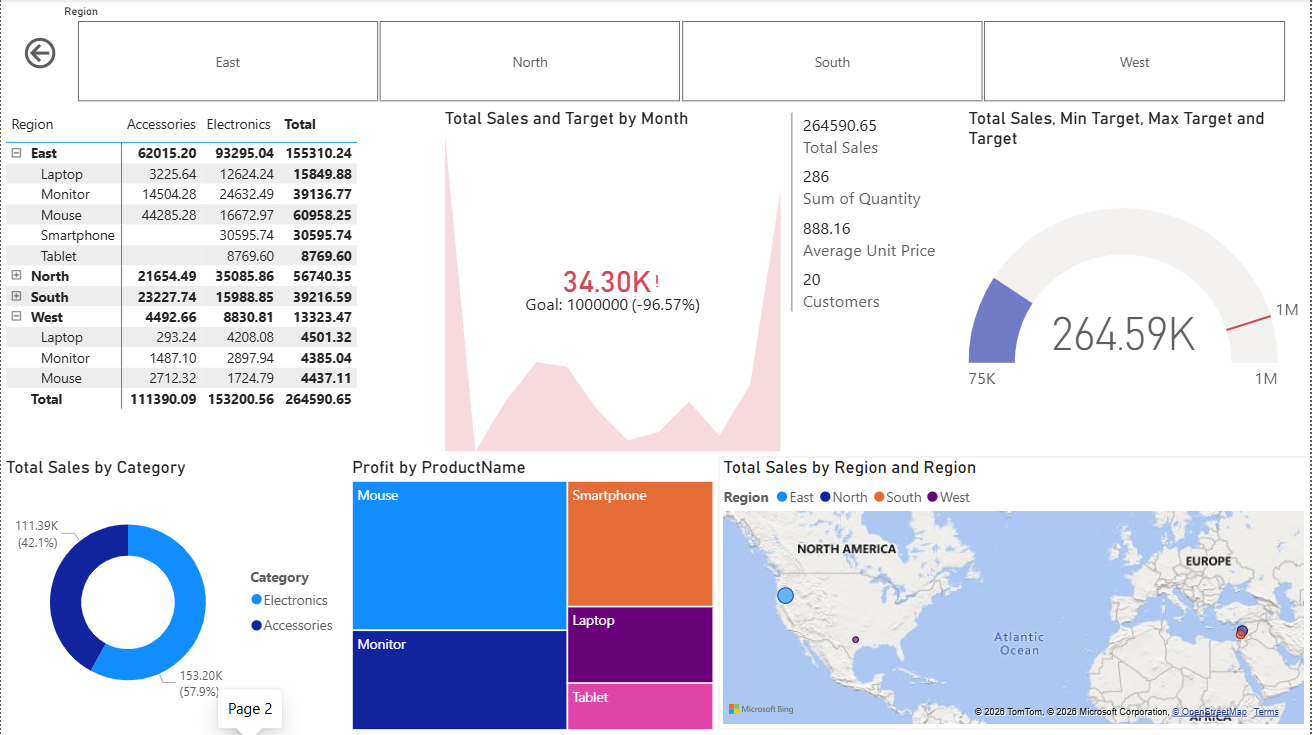

Layout of this report page (visuals, bound fields, positions):
{"tool":"powerbi","page":{"name":"Page 2","canvas":[1280,720],"ordinal":1},"visuals":[{"type":"donutChart","fields":{"Category":["Dim_Products.Category"],"Y":["Fact_Sales.Total Sales"]},"box":[0,447.6,338.7,266.6],"z":0},{"type":"treemap","fields":{"Group":["Dim_Products.ProductName"],"Values":["Fact_Sales.Profit"]},"box":[338.7,447.6,363.2,272.7],"z":1000},{"type":"map","fields":{"Category":["Dim_Customers.Region"],"Size":["Fact_Sales.Total Sales"],"Series":["Dim_Customers.Region"]},"box":[701.9,447.6,578.4,266.6],"z":2000},{"type":"kpi","fields":{"Indicator":["Fact_Sales.Total Sales"],"Goal":["Fact_Sales.Target"],"TrendLine":["Dim_Date.Month"]},"box":[429.2,106.4,338.7,341.2],"z":3000},{"type":"multiRowCard","fields":{"Values":["Fact_Sales.Total Sales","Sum(Fact_Sales.Quantity)","Fact_Sales.Average Unit Price","Fact_Sales.Customers"]},"box":[767.9,106.4,173.6,341.2],"z":4000},{"type":"gauge","fields":{"Y":["Fact_Sales.Total Sales"],"MinValue":["Fact_Sales.Min Target"],"MaxValue":["Fact_Sales.Max Target"],"TargetValue":["Fact_Sales.Target"]},"box":[941.6,106.4,338.7,341.2],"z":5000},{"type":"pivotTable","fields":{"Columns":["Dim_Products.Category"],"Values":["Fact_Sales.Total Sales"],"Rows":["Dim_Customers.Region","Dim_Products.ProductName"]},"box":[0,106.4,429.2,316.7],"z":6000},{"type":"slicer","fields":{"Values":["Dim_Customers.Region"]},"box":[49.4,0,1230.9,107],"z":7000},{"type":"actionButton","box":[17.8,32.9,61.7,39.8],"z":8000}]}

Visuals, with their boxes in screenshot pixels (x1, y1, x2, y2), scaled from the page's 1280x720 canvas onto the 1313x735 screenshot:
donutChart - Dim_Products.Category x Fact_Sales.Total Sales: 0, 457, 347, 729
treemap - Dim_Products.ProductName x Fact_Sales.Profit: 347, 457, 720, 734
map - Dim_Customers.Region x Fact_Sales.Total Sales: 720, 457, 1312, 729
kpi - Fact_Sales.Total Sales x Fact_Sales.Target: 440, 109, 788, 457
multiRowCard - Fact_Sales.Total Sales x Sum(Fact_Sales.Quantity): 788, 109, 966, 457
gauge - Fact_Sales.Total Sales x Fact_Sales.Min Target: 966, 109, 1312, 457
pivotTable - Dim_Products.Category x Fact_Sales.Total Sales: 0, 109, 440, 432
slicer - Dim_Customers.Region: 51, 0, 1312, 109
actionButton: 18, 34, 82, 74
